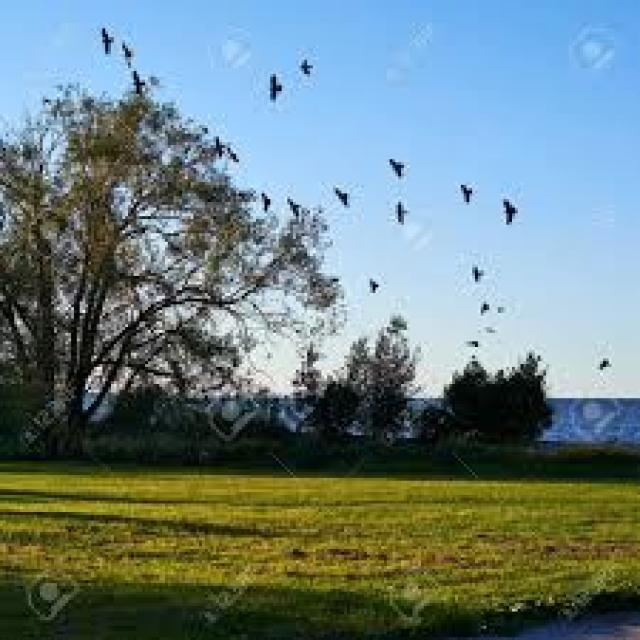bird: (354, 258, 394, 305), (264, 62, 302, 111), (120, 23, 154, 74), (502, 196, 528, 253), (392, 199, 430, 233), (328, 180, 362, 214), (90, 17, 116, 60), (382, 144, 414, 178), (253, 184, 285, 218), (129, 64, 161, 96), (589, 344, 620, 376), (294, 54, 320, 88), (458, 176, 484, 205), (290, 189, 304, 226), (468, 258, 485, 288)
